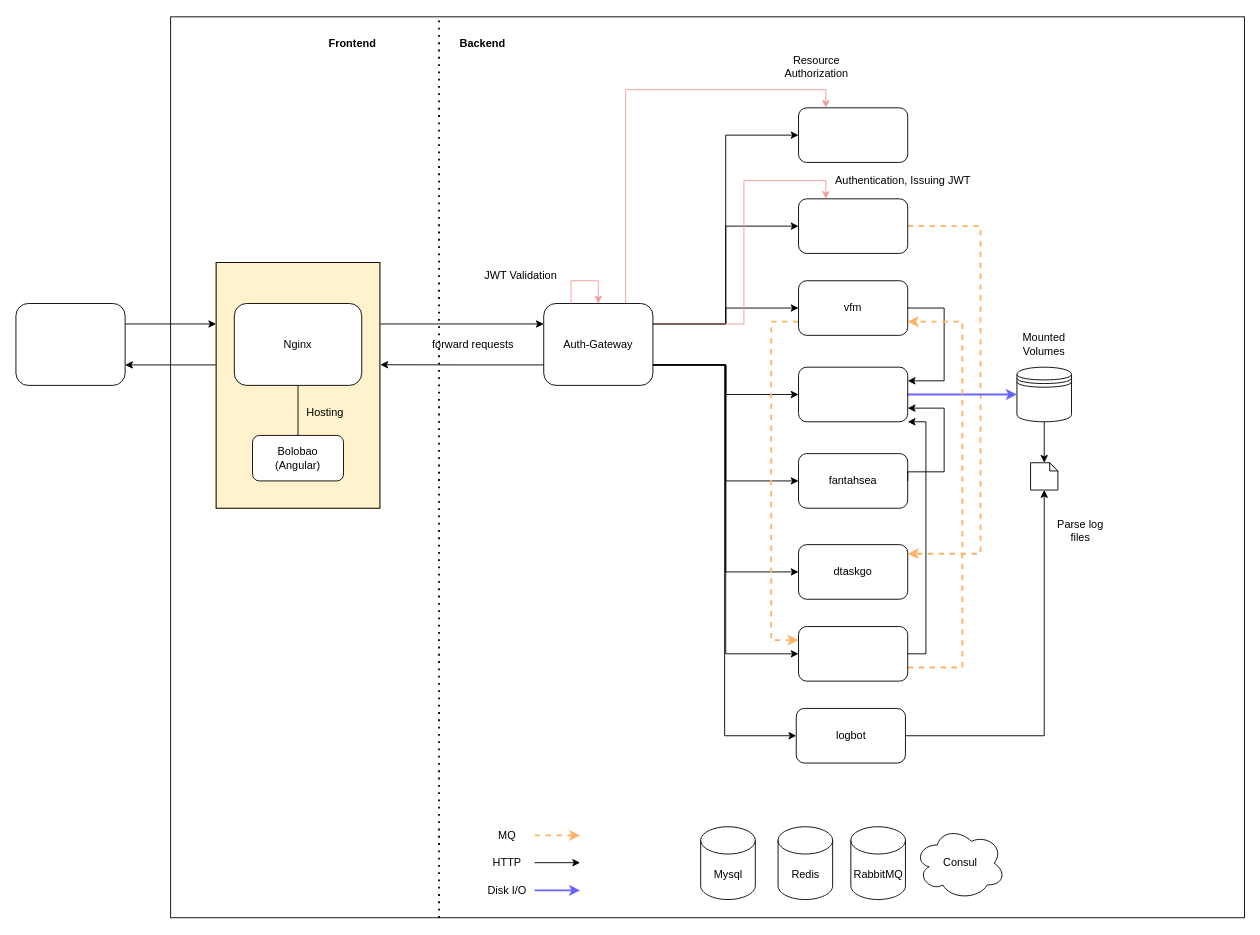
This 1260x935 diagram has some shape labels left out. Each missing label, with the centre of its shape:
auth-service: [853,225]
Browser: [70,344]
goauth: [853,134]
hammer: [853,653]
mini-fstore: [853,394]
